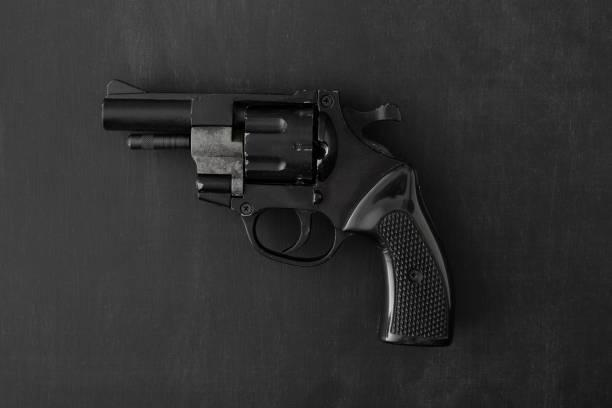weapon: (101, 73, 458, 349)
